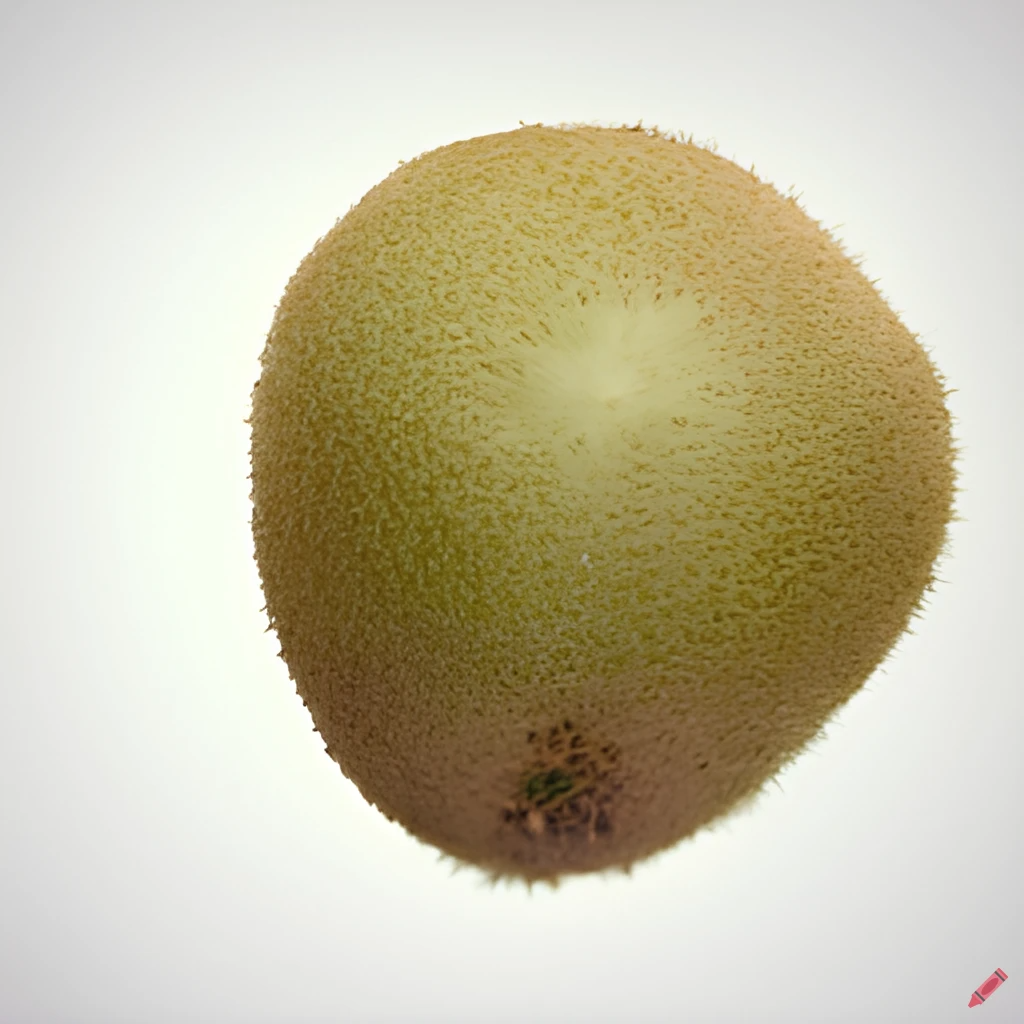Kiwi: (244, 115, 940, 884)
